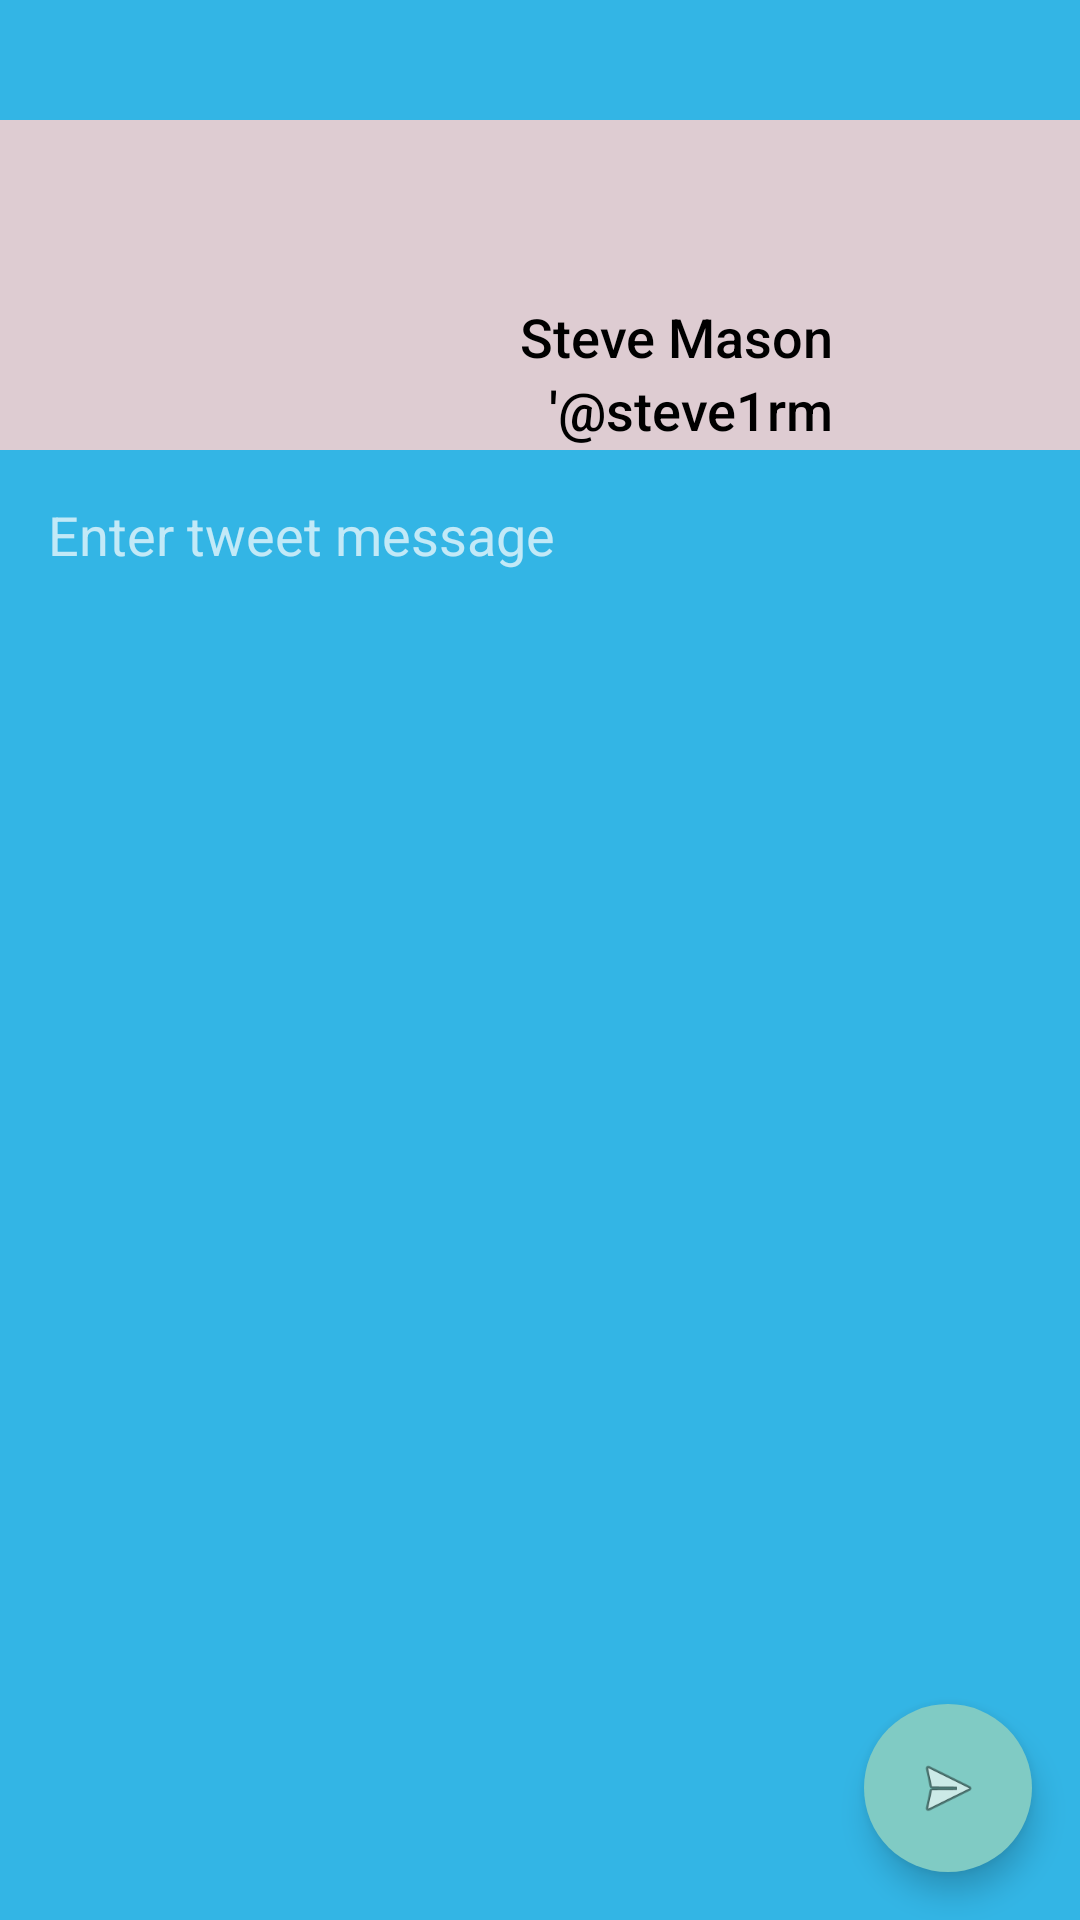

Where to tap for icons on this 1080x1920 app screen, as point (x, y):
send: point (948, 1788)
